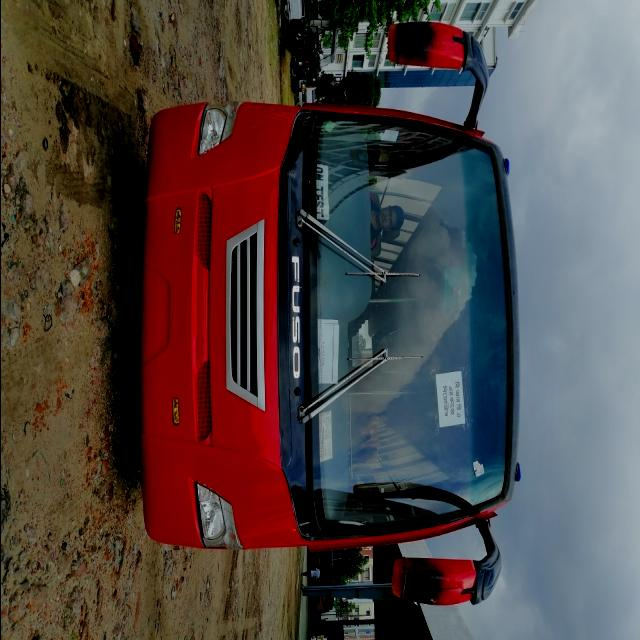bus: (113, 11, 545, 640)
